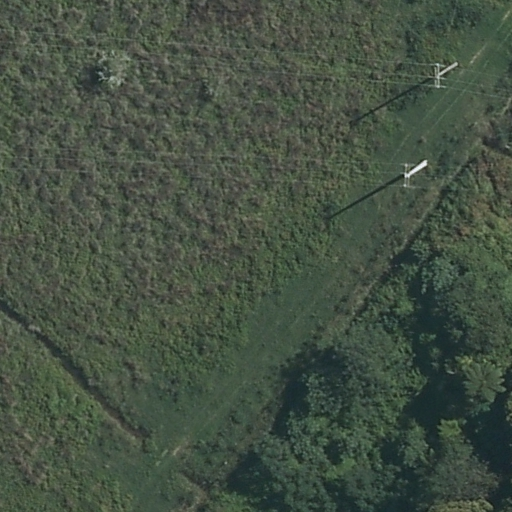DT: (427, 61, 458, 84), (401, 160, 427, 186)
